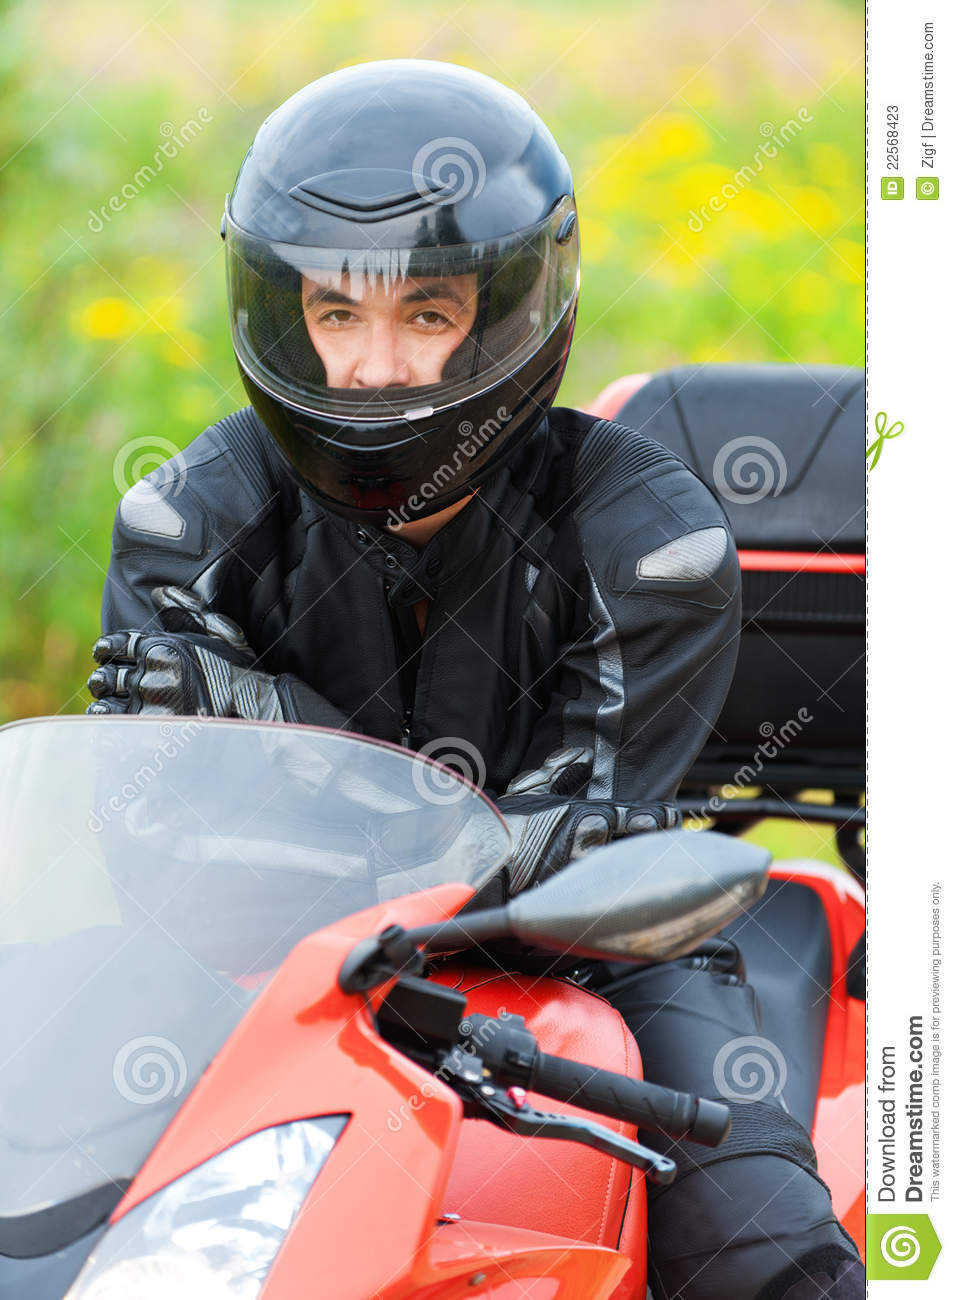helmet: (225, 79, 579, 489)
